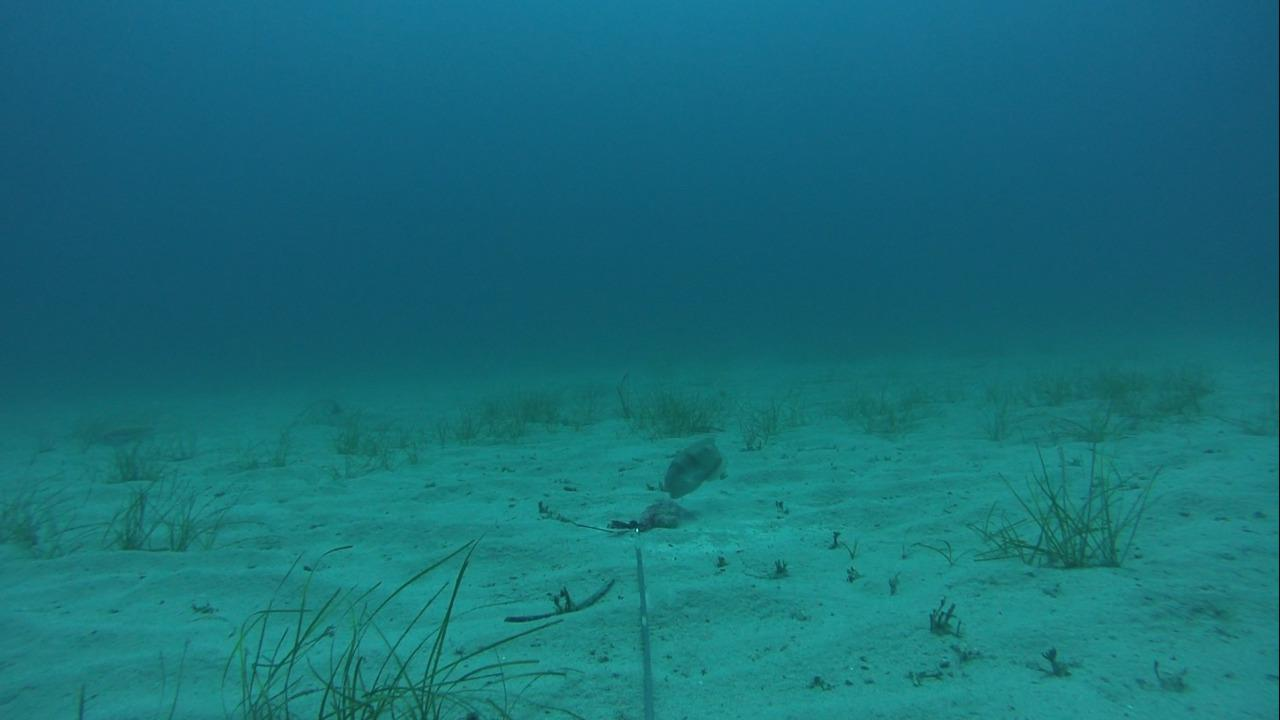raor: (660, 434, 730, 503)
